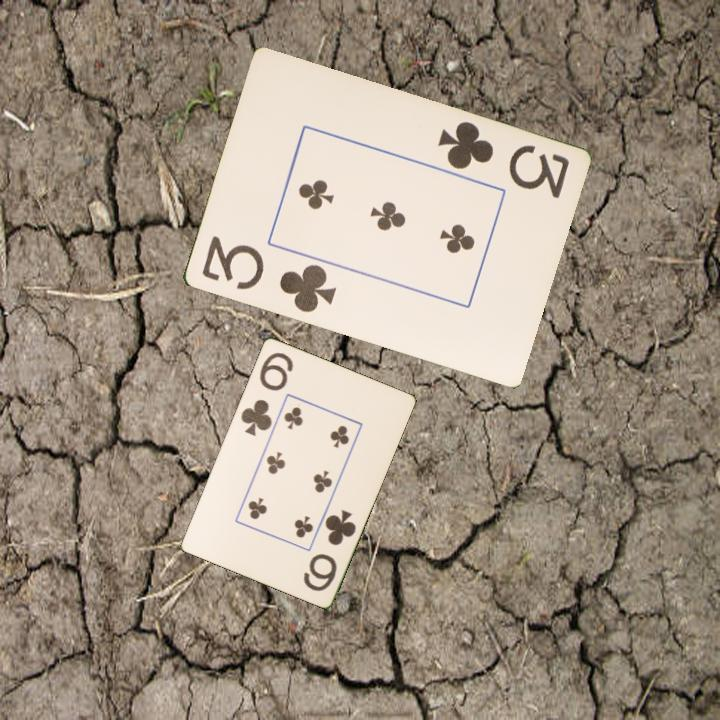3c: (197, 232, 339, 316), (433, 117, 572, 202)
6c: (237, 348, 296, 438), (299, 506, 359, 594)
